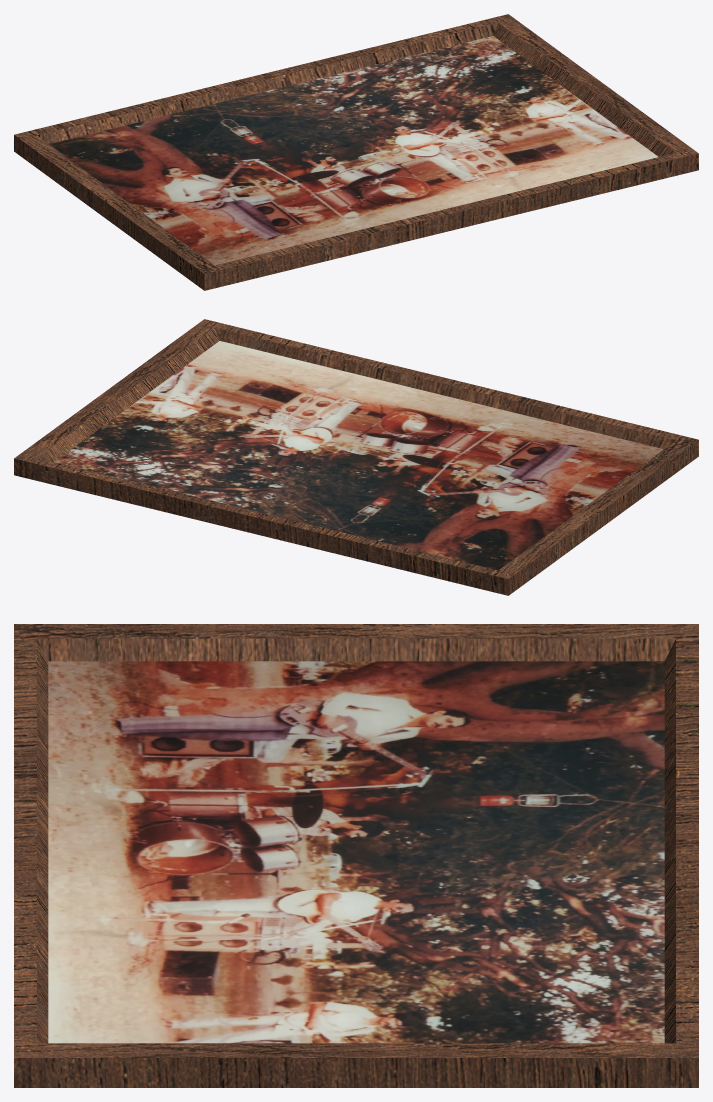
3 renders of one model, top to bottom at view 1: azimuth 30°, elevation 25°; view 2: azimuth 150°, elevation 25°; view 3: azimuth 270°, elevation 25°, orthographic. The views are drawn at different scales.
Parts seen in each view (by area): view 1: Plane, frame1(1); view 2: Plane, frame1(1); view 3: Plane, frame1(1).
Part boxes in pixels (left/top/right/bottom): Plane: left=49, top=36, right=658, bottom=265; frame1(1): left=14, top=14, right=698, bottom=290; Plane: left=54, top=341, right=663, bottom=570; frame1(1): left=14, top=319, right=698, bottom=595; Plane: left=48, top=661, right=664, bottom=1043; frame1(1): left=14, top=624, right=698, bottom=1087.
Size of the model in its own units: 13.17 by 0.4268 by 8.79.
Materials: 2 (2 with a texture image).
